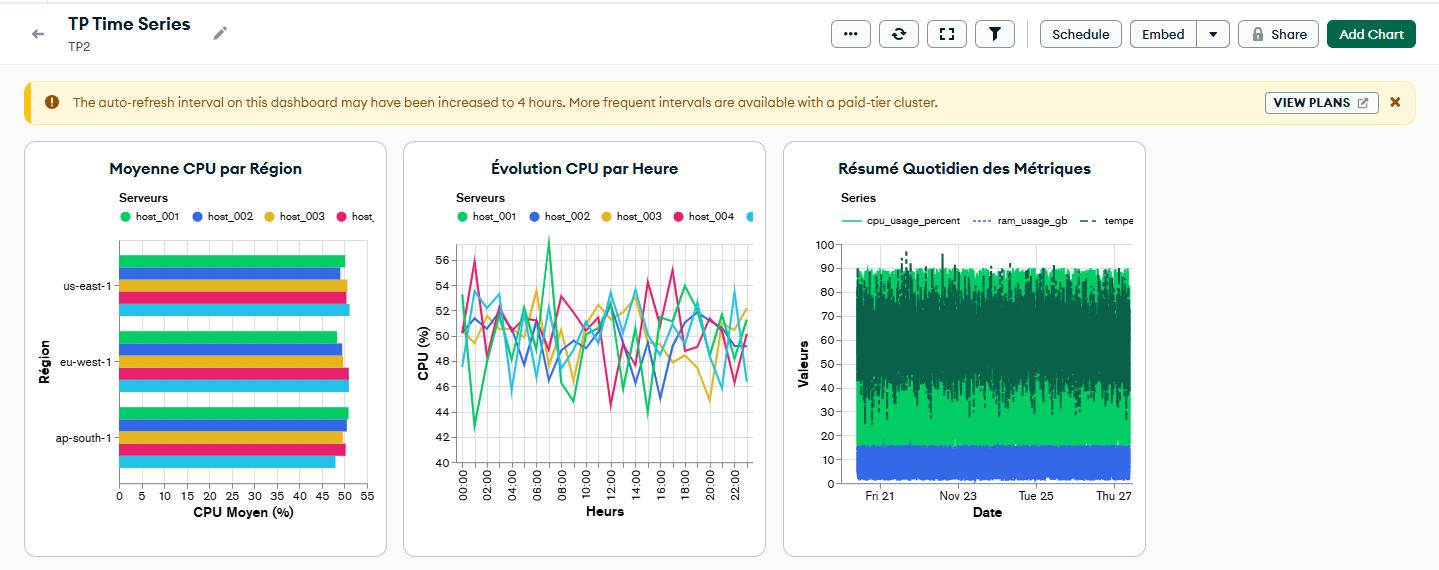

Layout of this report page (visuals, bound fields, positions):
{"tool":"powerbi","page":{"name":"Visu 1","canvas":[1280,720],"ordinal":0},"visuals":[{"type":"clusteredBarChart","title":"Moyenne CPU par Région","fields":{"Category":["monitoring.region"],"Series":["monitoring.sensor_id"],"Y":["monitoring.CPU_Moyen_Region_Serveur"]},"box":[0,0,640.7,359.5],"z":0},{"type":"lineChart","title":"Évolution CPU par Heure","fields":{"Series":["monitoring.sensor_id"],"Category":["monitoring.Heure"],"Y":["monitoring.CPU_Moyen_Heure"]},"box":[640.7,0,639.3,359.5],"z":1000},{"type":"areaChart","title":"Résumé Quotidien des Métriques","fields":{"Category":["monitoring.Date.Variation.Hiérarchie de dates.Mois","monitoring.Date.Variation.Hiérarchie de dates.Jour"],"Y":["monitoring.CPU_Moyen_Quotidien","monitoring.RAM_Moyenne_Quotidienne"],"Y2":["monitoring.Temp_Moyenne_Quotidienne"]},"box":[0,359.5,1280,360.9],"z":2000}]}

Visuals, with their boxes on the page's 1280x720 design canvas (x1, y1, x2, y2). These are canvas units, not pixel positions in the 1439x570 screenshot, which may show the page scaled, cropped or inside an application window:
"Moyenne CPU par Région" clusteredBarChart: box=[0, 0, 641, 360]
"Évolution CPU par Heure" lineChart: box=[641, 0, 1280, 360]
"Résumé Quotidien des Métriques" areaChart: box=[0, 360, 1280, 720]
